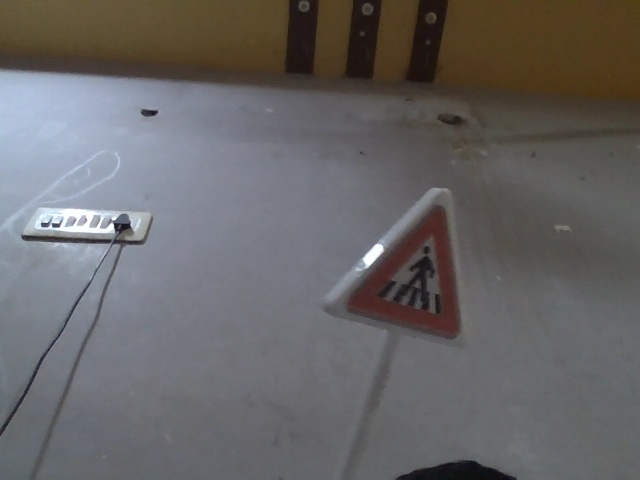crossing: (323, 187, 482, 344)
